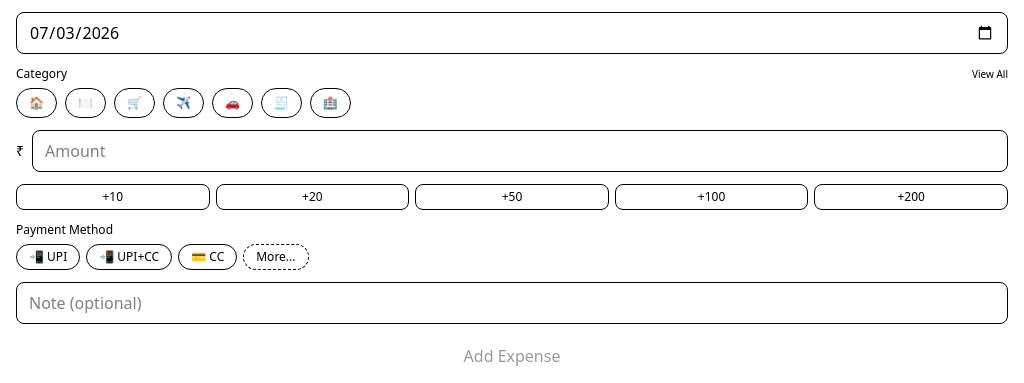
AddExpense — amount presets › tapping multiple presets adds them together
Click the button "+50" at (512, 197), box [415, 184, 609, 210]
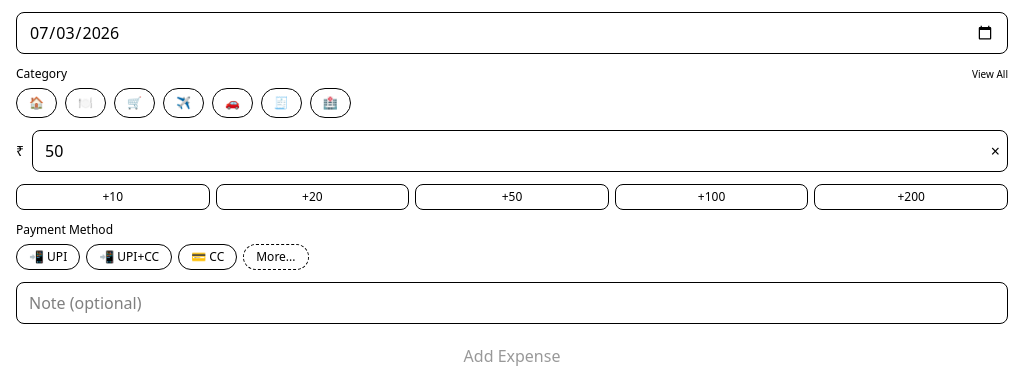
Expected: the number field with placeholder "Amount" holds "50", [32, 130, 1008, 172]
Click the button "+200" at (911, 197), box [814, 184, 1008, 210]
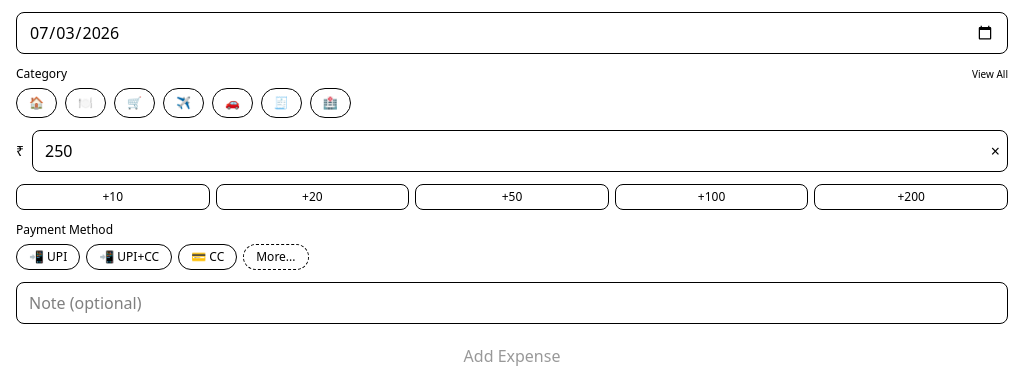
Expected: the number field with placeholder "Amount" holds "250", [32, 130, 1008, 172]
